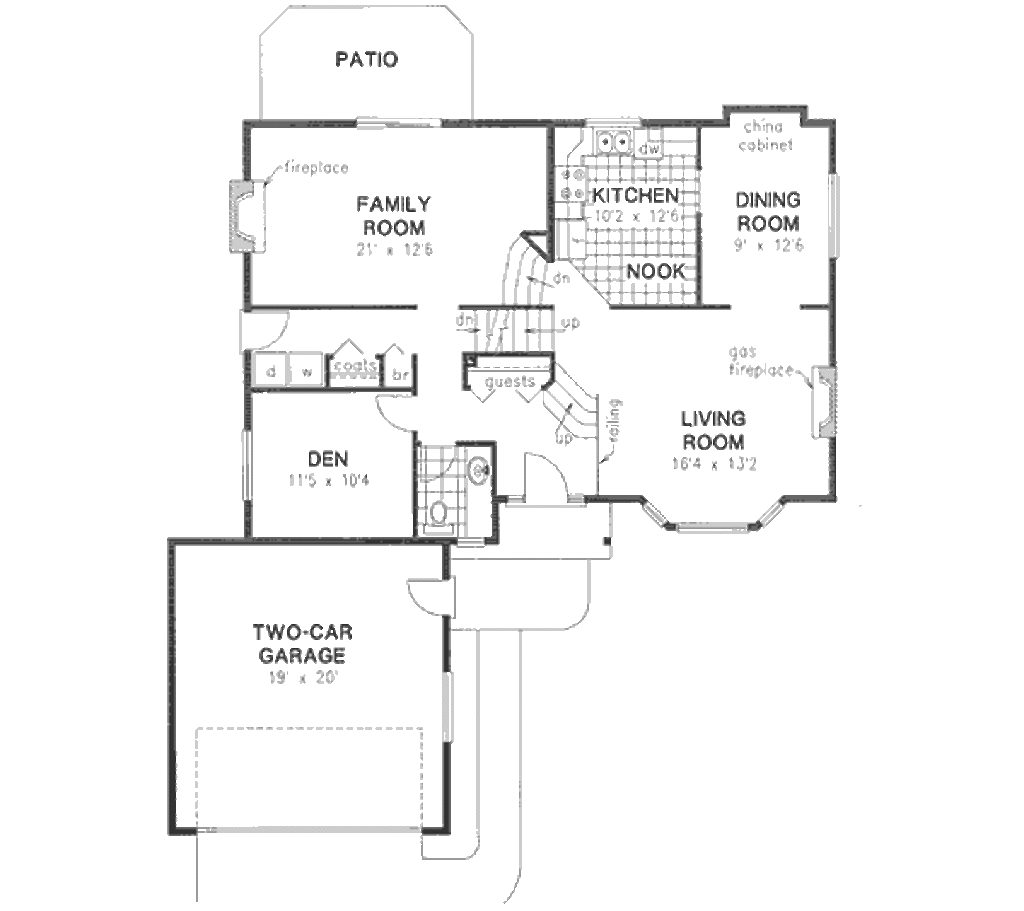door: (631, 496, 784, 531), (231, 305, 308, 358), (519, 448, 578, 515), (399, 572, 462, 627), (371, 389, 422, 436), (413, 438, 460, 486), (826, 176, 841, 263), (440, 667, 451, 739)
large_sink: (417, 493, 451, 536)
small_sink: (458, 446, 492, 494)
stairs: (450, 231, 562, 349), (536, 362, 612, 459)
twin_sink: (589, 120, 643, 162)
window: (353, 107, 448, 139), (227, 422, 265, 497)
